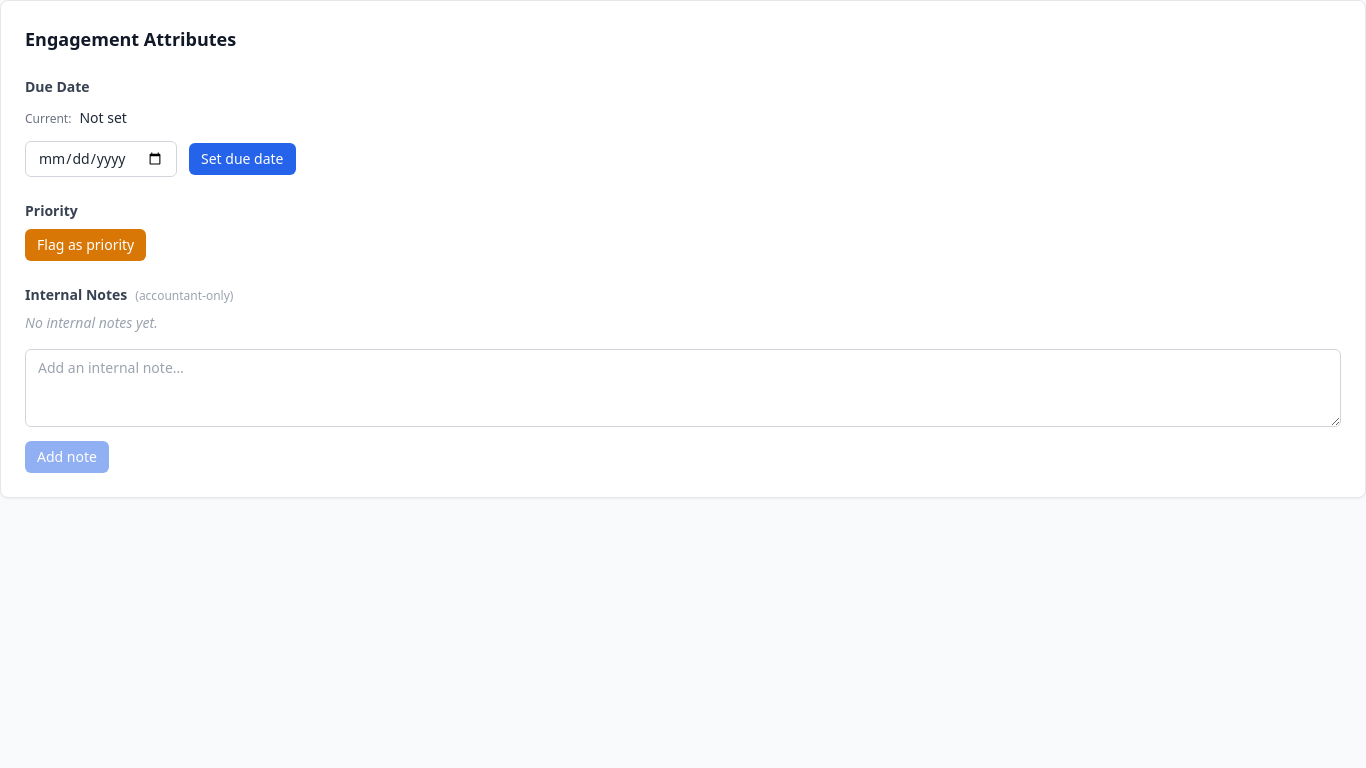
Test: [AC-LIFE-008-01] recordNoteAction wire-up › [AC-LIFE-008-01] shows error message when recordNoteAction fails
The width and height of the screenshot is (1366, 768).
Type "A note" into the text box with test id "note-body-input".
click(683, 388); type("A note")  # box [25,349,1341,427]
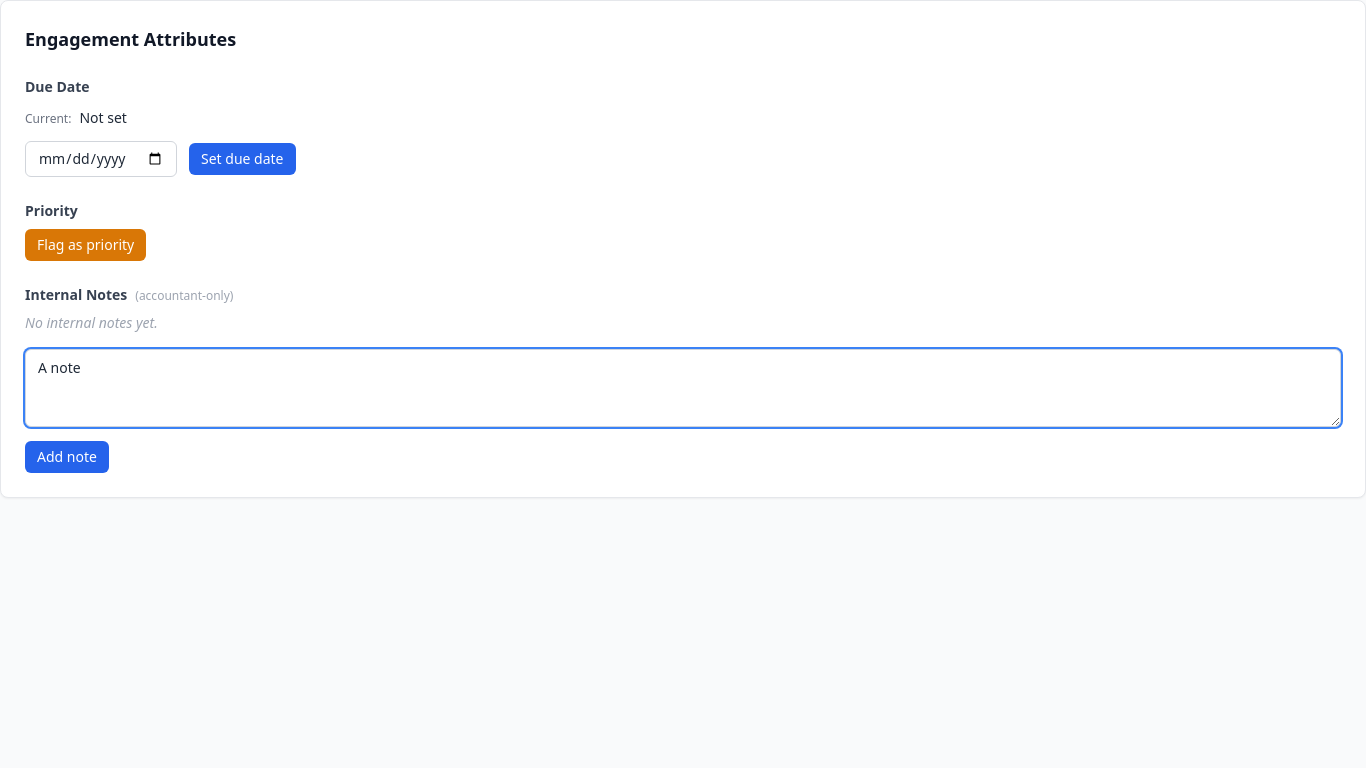
Click the button with test id "record-note-button".
click(67, 457)  # box [25,441,109,473]
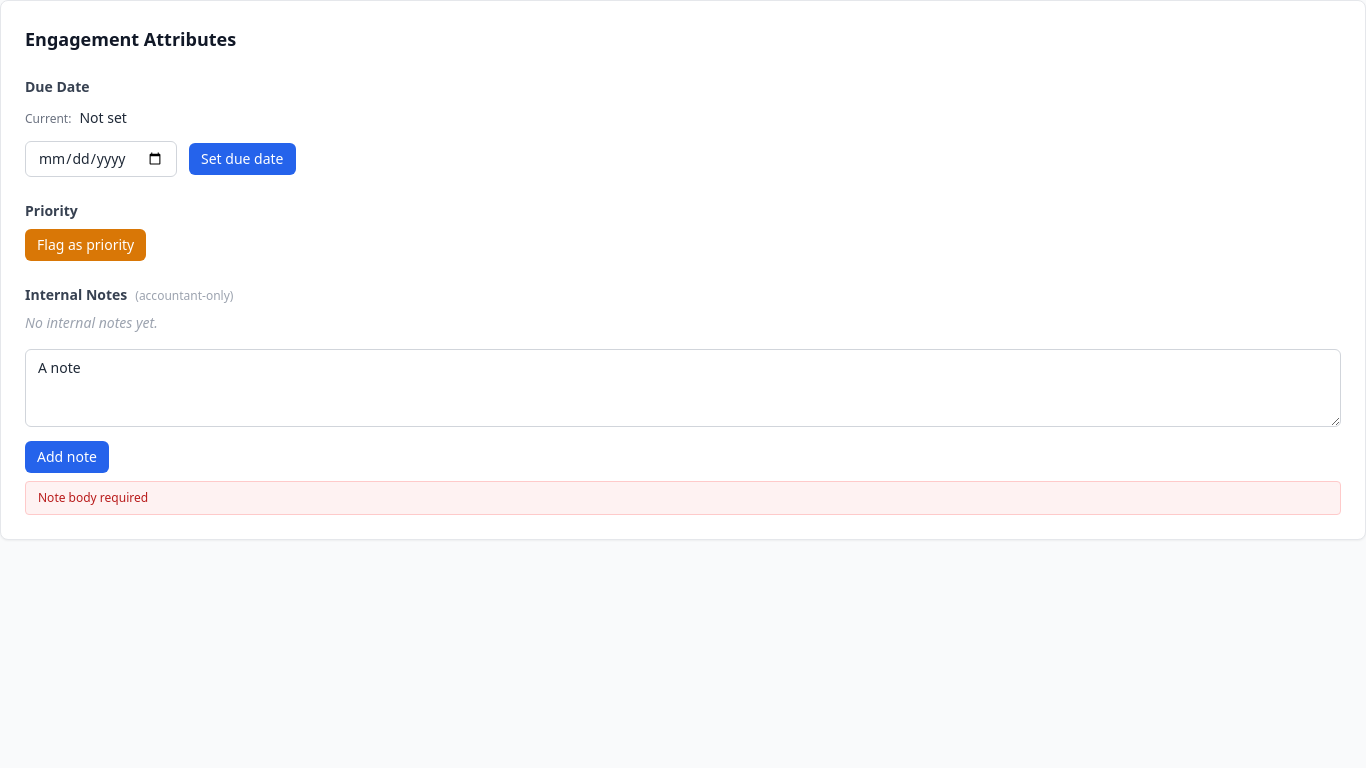
Expected: the message with test id "attribute-action-status" reads "Note body required", [38,489,148,506]
